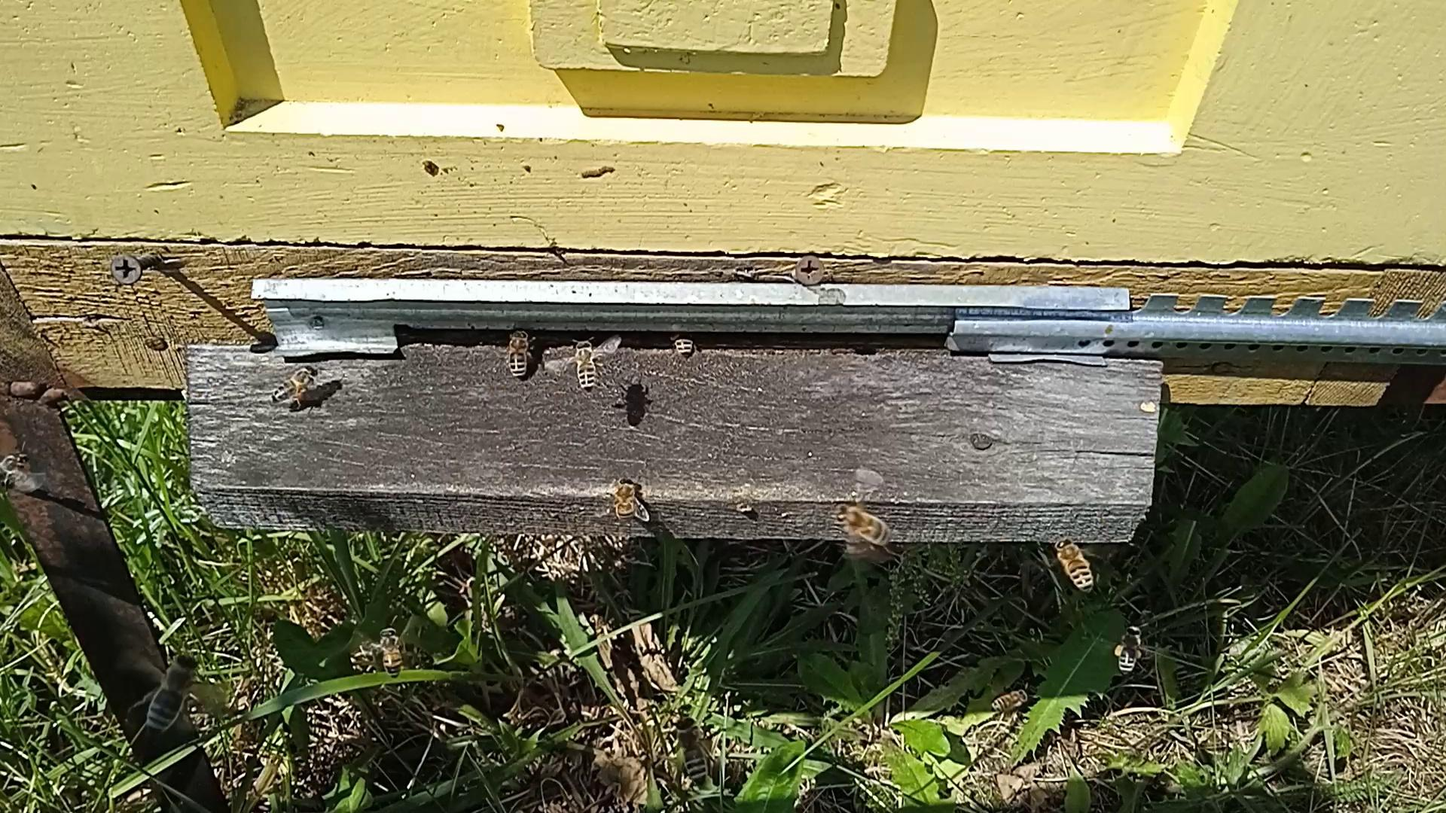worker-bee: (145, 653, 200, 735), (831, 502, 891, 545), (1054, 537, 1096, 593), (675, 714, 709, 783), (272, 364, 320, 405), (610, 475, 647, 522), (502, 328, 535, 379), (572, 337, 599, 393), (377, 628, 404, 678), (1115, 626, 1141, 675), (1, 450, 29, 490), (991, 690, 1031, 714), (670, 331, 697, 358)
